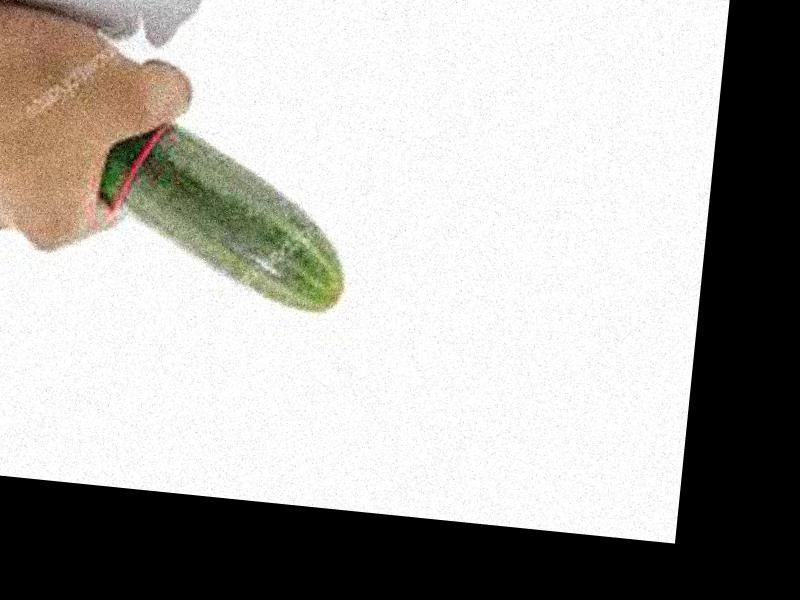Cucumber: (89, 118, 357, 314)
